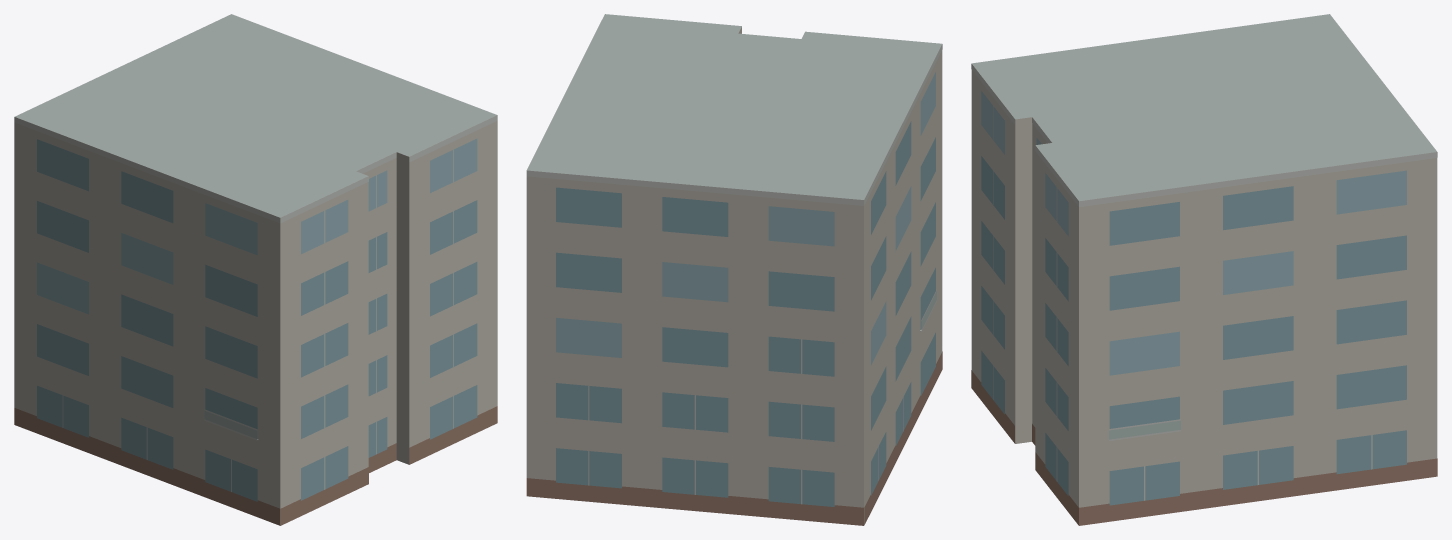
Rendered from survey-upis-32838791.glb.
3 views of the same model, side by side, from view 1: azimuth 30°, elevation 25°; view 2: azimuth 150°, elevation 25°; view 3: azimuth 270°, elevation 25° (orthographic). The views are drawn at different scales.
Parts seen in each view (by area): view 1: survey-upis-32838791.tmp; view 2: survey-upis-32838791.tmp; view 3: survey-upis-32838791.tmp.
Part boxes in pixels (box(x1,y1,x2,y2)): survey-upis-32838791.tmp: box(14, 14, 497, 525); survey-upis-32838791.tmp: box(526, 14, 942, 525); survey-upis-32838791.tmp: box(971, 14, 1437, 525).
Bounding box in the file's own units: 16.71 × 13.5 × 17.57.
